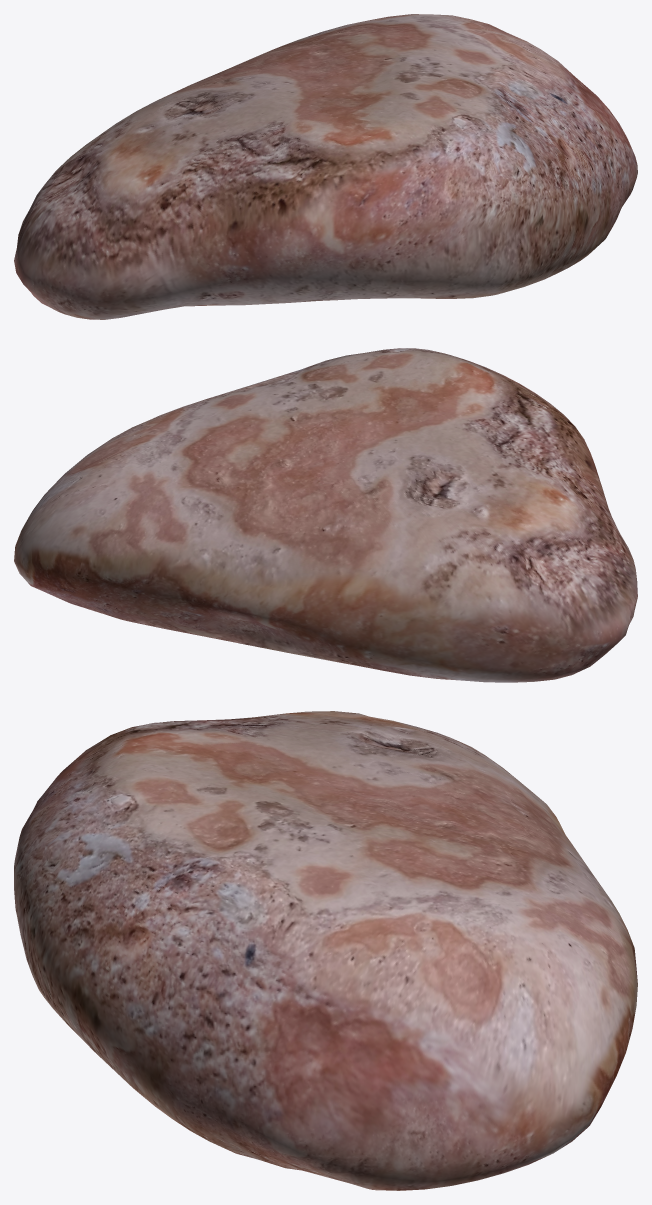
Rendered from BeachRock7.fbx.
3 views of the same model, one above another, from view 1: azimuth 30°, elevation 25°; view 2: azimuth 150°, elevation 25°; view 3: azimuth 270°, elevation 25° (orthographic). The views are drawn at different scales.
Visible parts, largest first — view 1: BeachRock7_LOD0; view 2: BeachRock7_LOD0; view 3: BeachRock7_LOD0.
Part boxes in pixels (x1,y1,x2,y2): BeachRock7_LOD0: (14, 14, 637, 319); BeachRock7_LOD0: (14, 348, 637, 682); BeachRock7_LOD0: (14, 711, 637, 1190).
Size of what is drawn, in the model's own units: 31.89 by 11.37 by 23.22.
